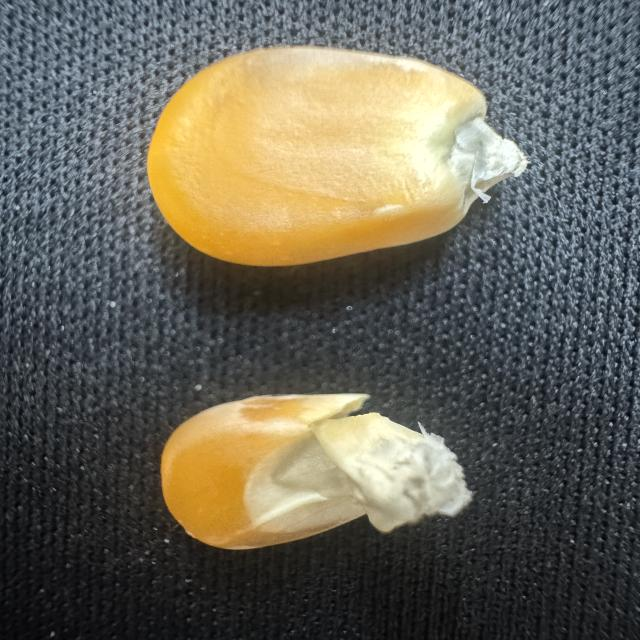Bad-Seed: (162, 388, 480, 556)
Good-Seed: (132, 37, 529, 286)
